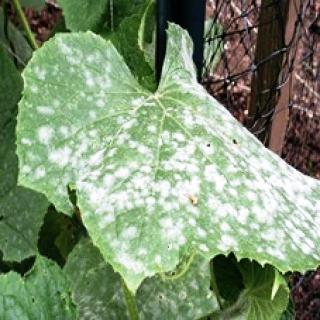grey mildew: (17, 28, 320, 281)
